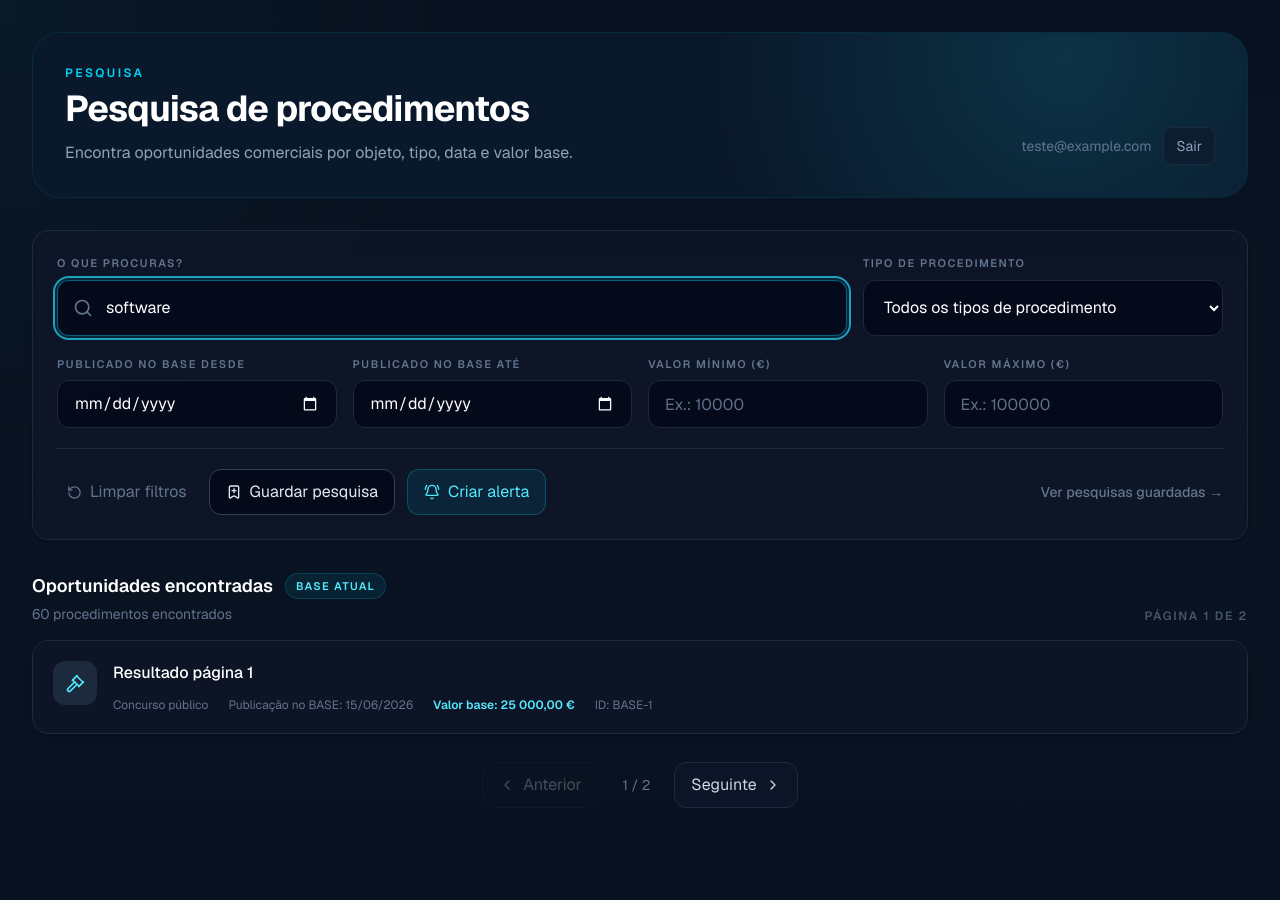
it: PesquisaPage › pagina os resultados sem voltar a consumir quota
This screenshot has width=1280, height=900.
Expected: the heading "Resultado página 1" is shown, [113,662,254,683]
Click the button "Seguinte".
click(736, 785)  # box [674,762,798,808]
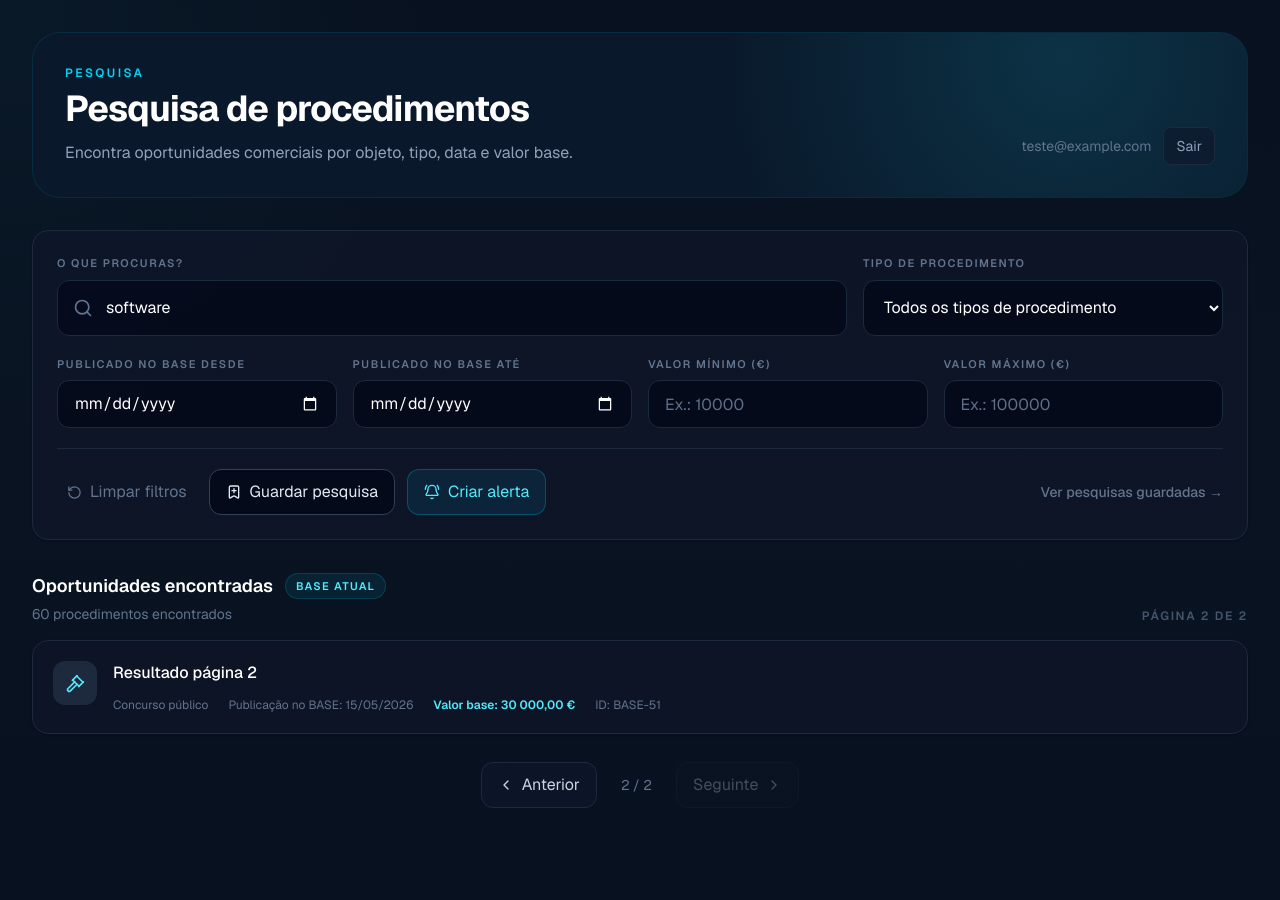
Expected: the heading "Resultado página 2" is shown, [113,662,257,683]
